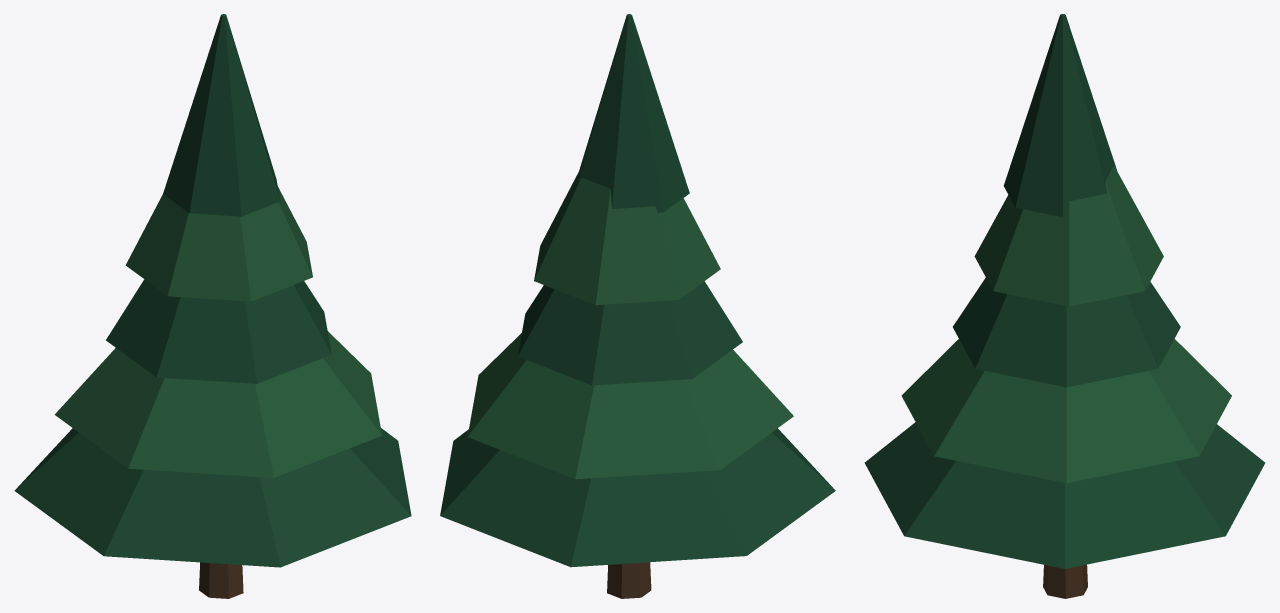
Rendered from pine-low-poly-a.glb.
The picture shows the model from 3 angles, left to right: view 1: azimuth 30°, elevation 25°; view 2: azimuth 150°, elevation 25°; view 3: azimuth 270°, elevation 25°; orthographic projection.
Parts seen in each view (by area): view 1: pine-a; view 2: pine-a; view 3: pine-a.
Part boxes in pixels (bbox=[...]): pine-a: bbox=[14, 14, 411, 598]; pine-a: bbox=[440, 14, 835, 598]; pine-a: bbox=[864, 14, 1265, 598].
Size of the model in its own units: 5.42 by 8.78 by 5.56.
